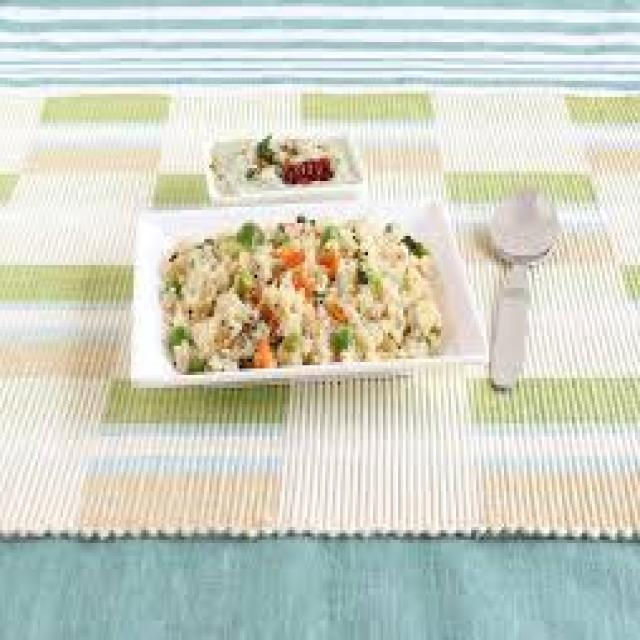UPMA: (156, 213, 441, 365)
